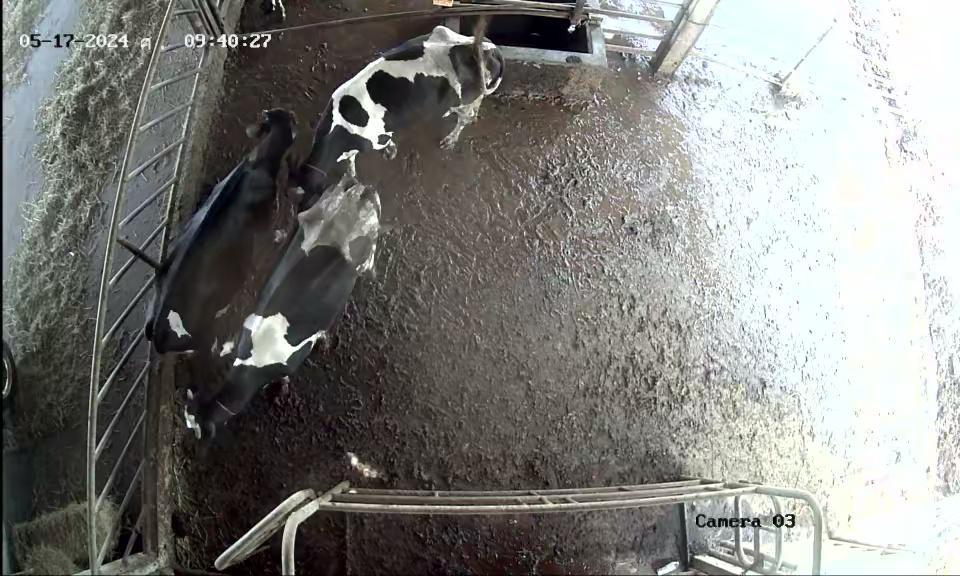stand: (151, 173, 405, 451), (140, 92, 318, 372), (289, 20, 510, 204)
